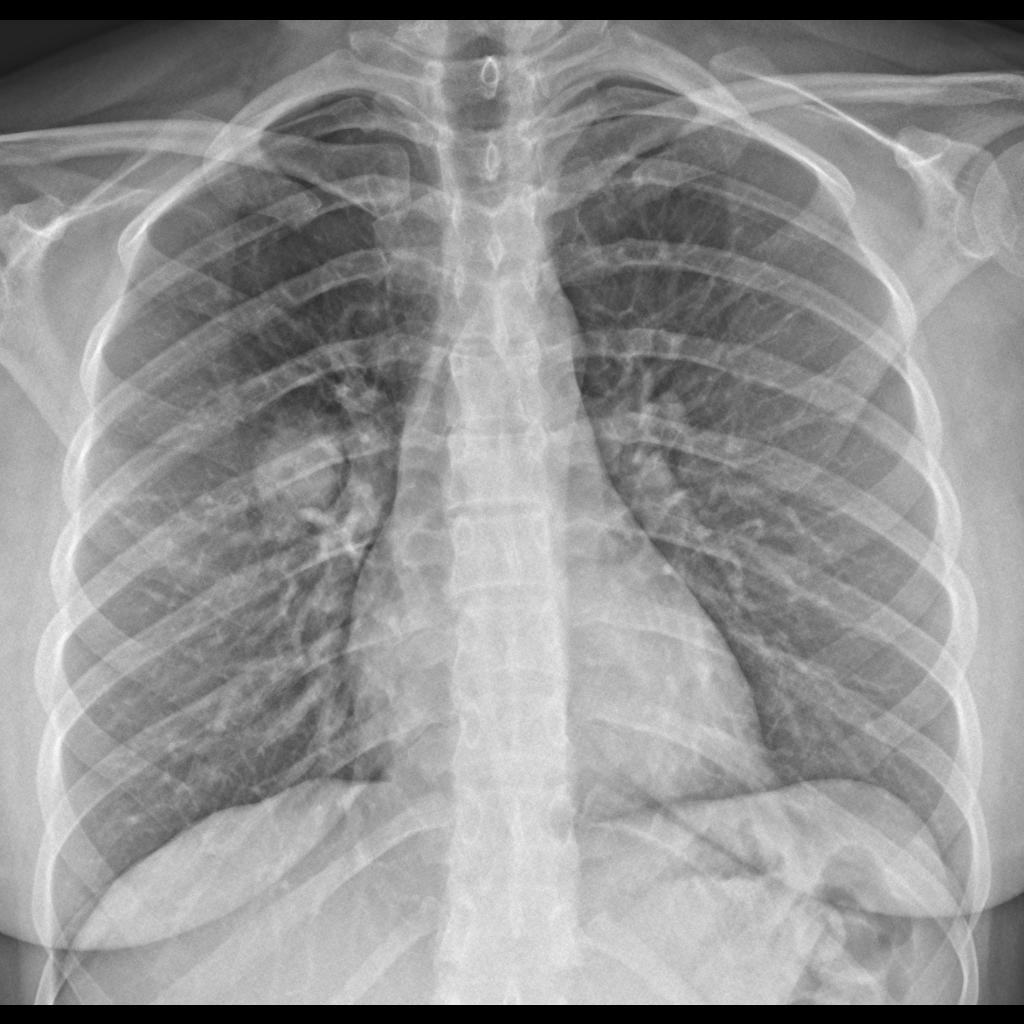Nodule: (240, 388, 357, 540)
